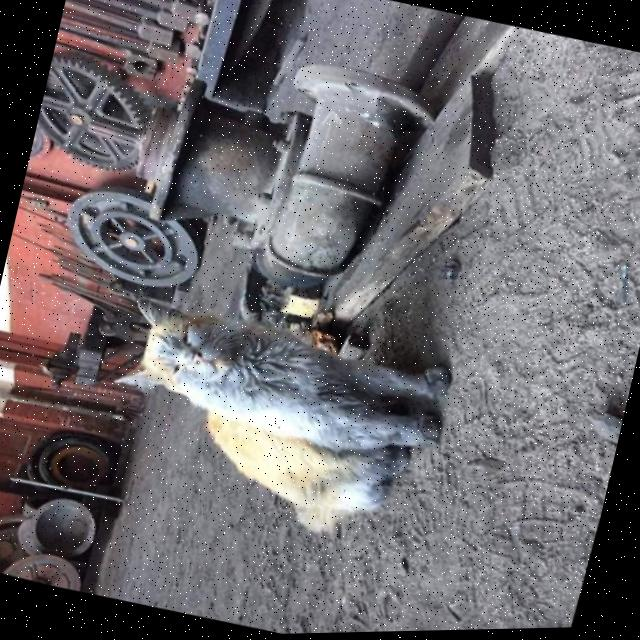Cats: (91, 280, 466, 562)
